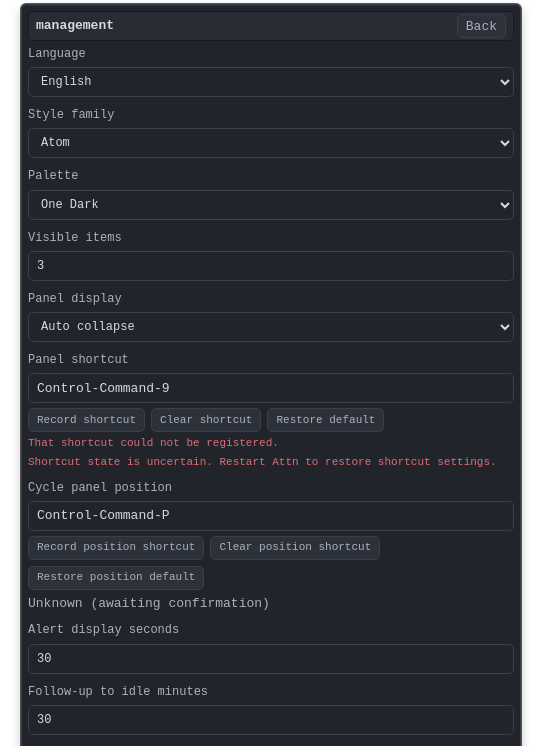
Test: StatusPanelView › keeps restart-required status after an uncertain native failure is dismissed
This screenshot has width=543, height=746.
Expected: the message "That shortcut could not be registered." is shown, [28, 437, 279, 449]
Expected: the message "Shortcut state is uncertain. Restart Attn to restore shortcut settings." is shown, [28, 456, 514, 470]
Click the button "Back": (481, 26) [457, 14, 506, 38]
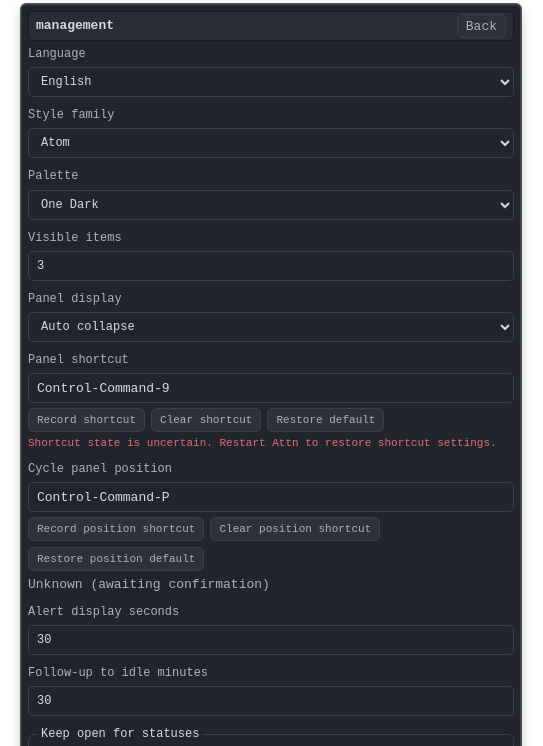
Expected: the message "Shortcut state is uncertain. Restart Attn to restore shortcut settings." is shown, [28, 437, 514, 451]
Now the message "That shortcut could not be registered." is gone
